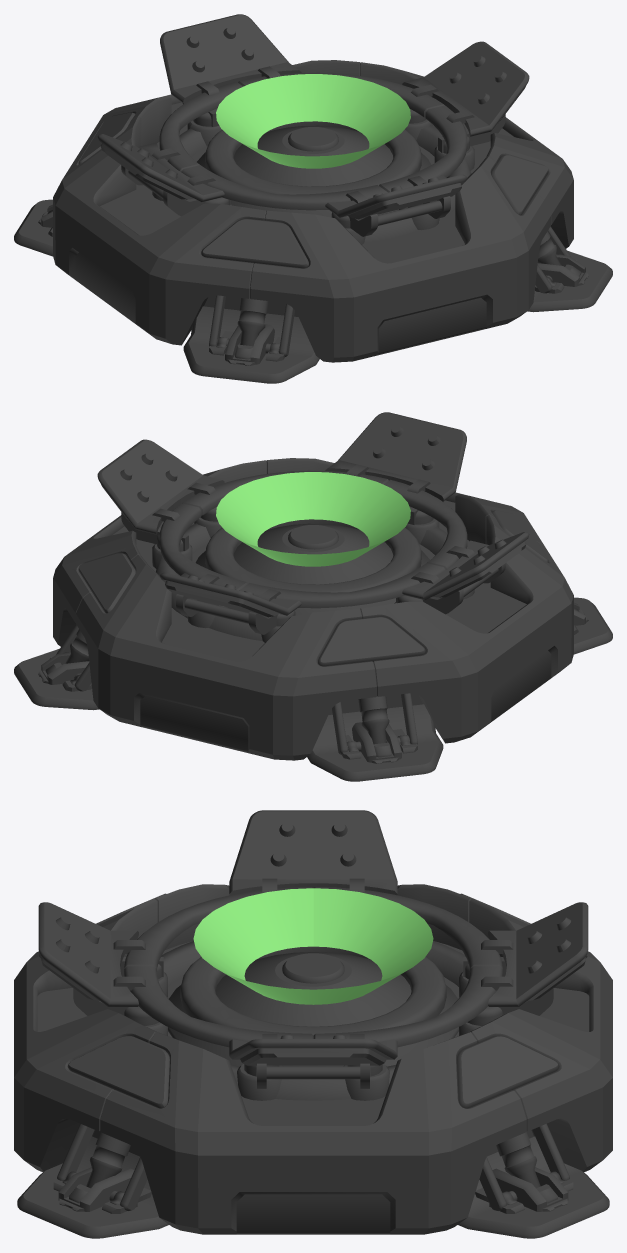
Rendered from Oxygen.fbx.
3 views of the same model, one above another, from view 1: azimuth 30°, elevation 25°; view 2: azimuth 150°, elevation 25°; view 3: azimuth 270°, elevation 25° (orthographic). The views are drawn at different scales.
Parts seen in each view (by area): view 1: Med_Kit; view 2: Med_Kit; view 3: Med_Kit.
Part boxes in pixels (x1,y1,x2,y2): Med_Kit: (14, 14, 612, 383); Med_Kit: (14, 412, 612, 781); Med_Kit: (14, 810, 612, 1238).
Bounding box in the file's own units: 95.64 × 33.22 × 95.64.
